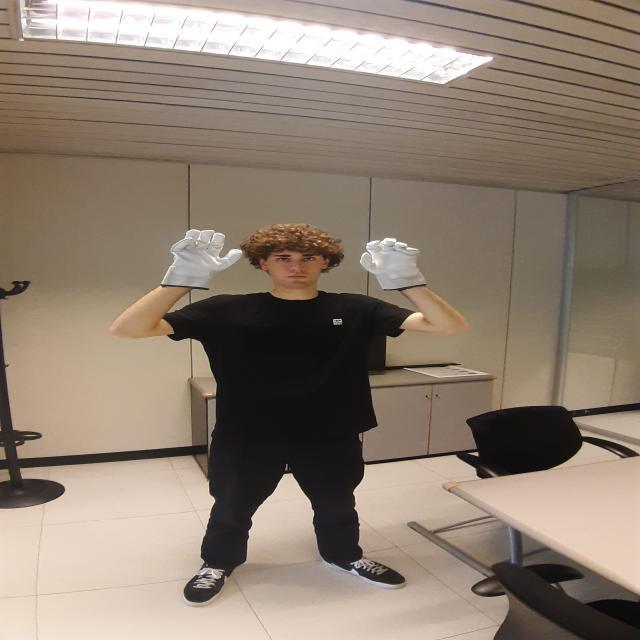gloved_hand: (161, 227, 242, 292), (354, 238, 431, 292)
